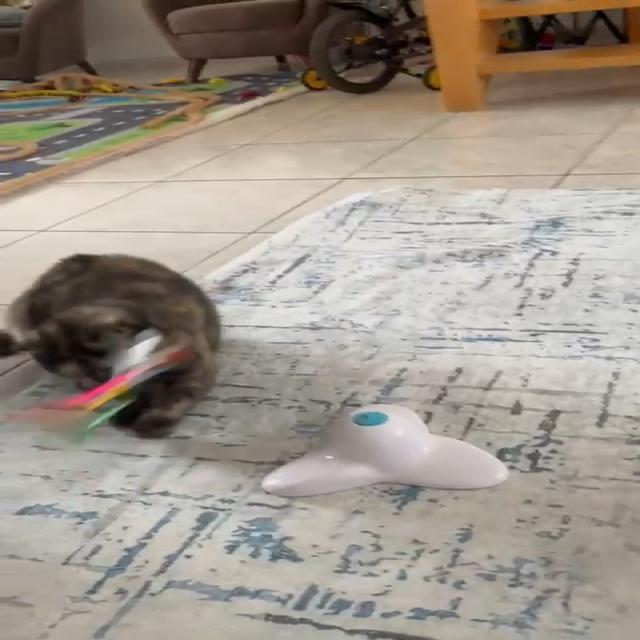authorized: (0, 252, 221, 438)
